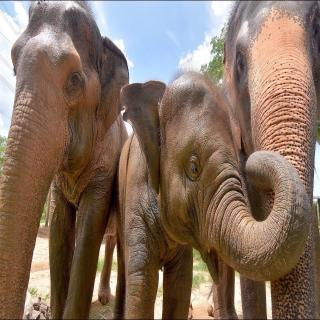Elephant: (117, 68, 310, 320), (0, 0, 141, 320), (217, 0, 320, 320)
